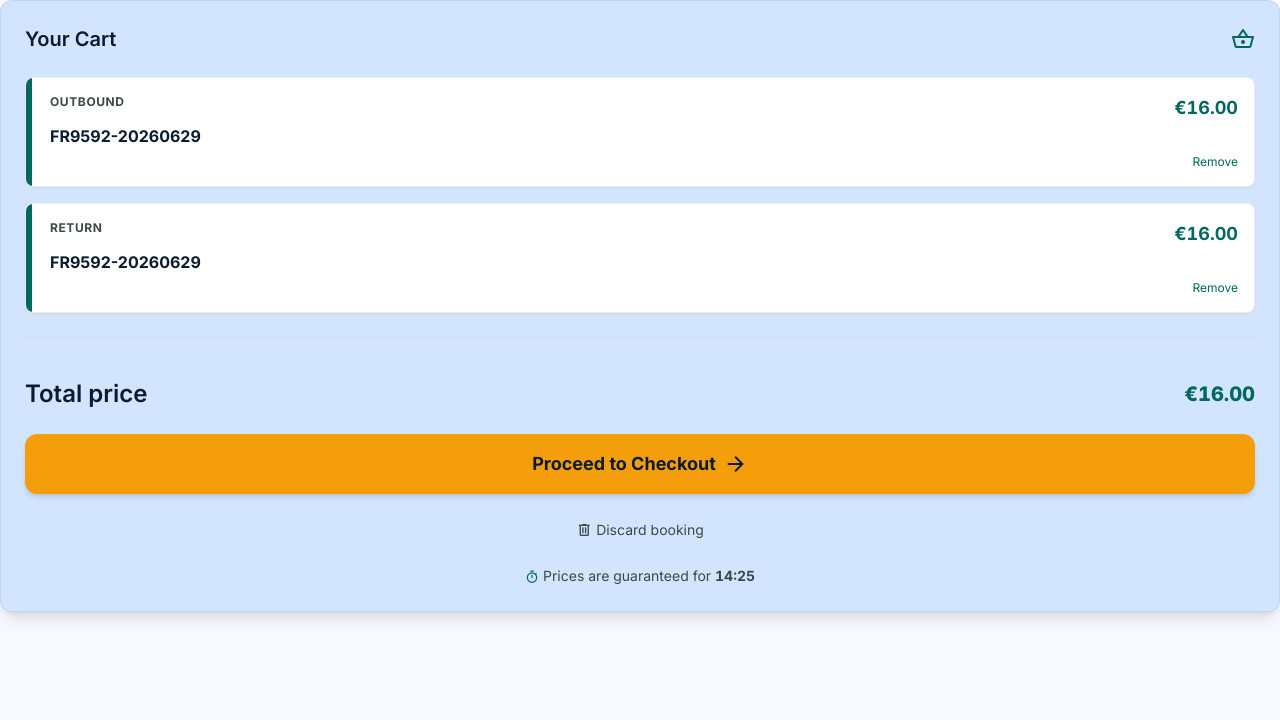
Test case: BookingSummary › confirming discard releases every held leg and empties the cart
Step 1. Click the button "Discard booking" → (640, 530), box x1=25 y1=510 x2=1255 y2=550
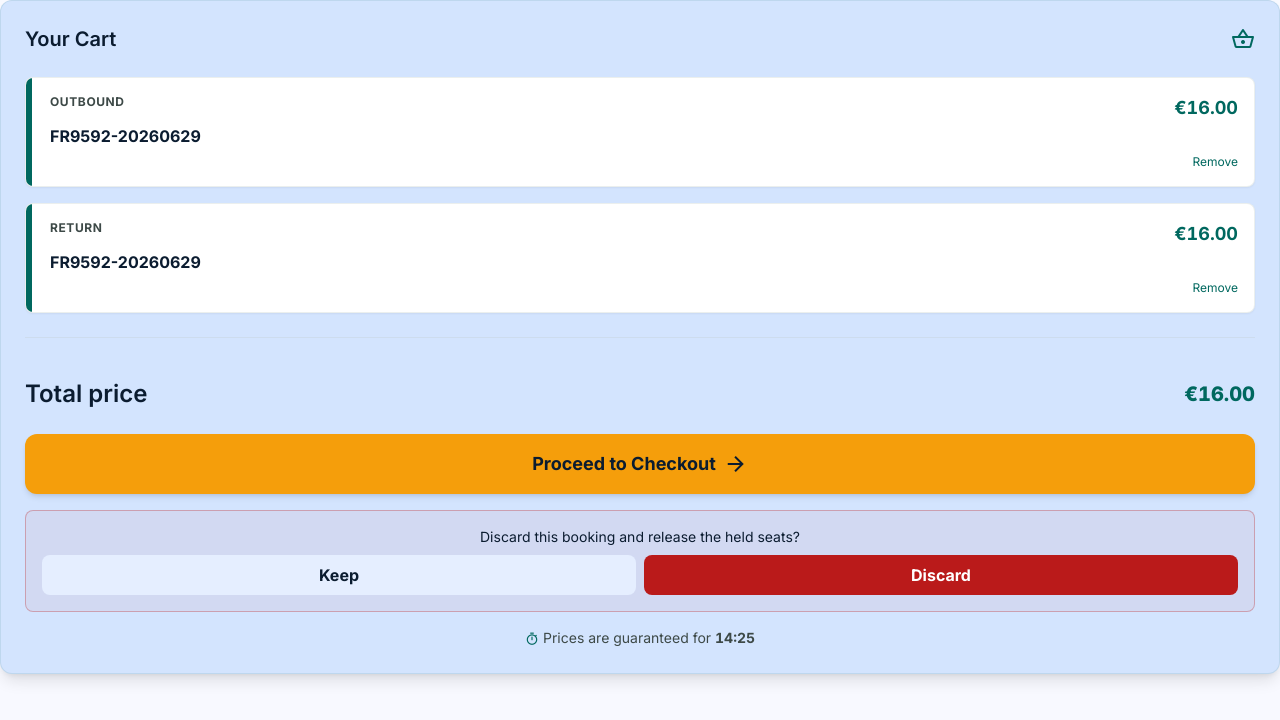
Step 2. Click the button "Discard" → (941, 575), box x1=644 y1=555 x2=1238 y2=595
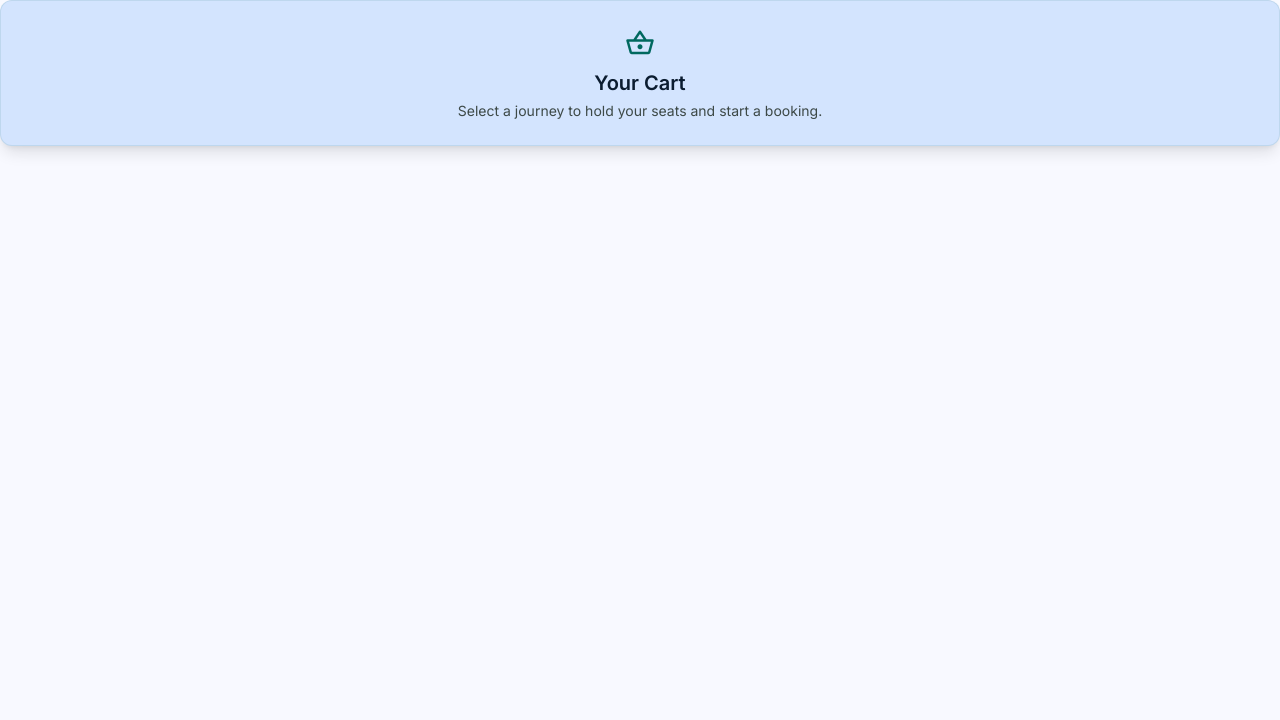
Expected: the text "Select a journey to hold your seats and start a booking." is shown, x1=458 y1=102 x2=822 y2=119
Expected: the button "Proceed to Checkout" is gone
